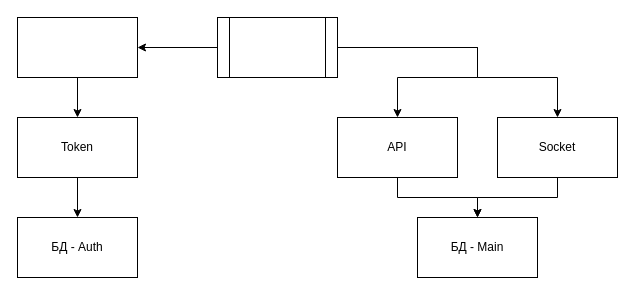
This 635x295 diagram has some shape labels left out. Here are the shapes that lost their labels. From the top down, the box of each, then its label:
(16, 16, 138, 78): Auth
(216, 16, 338, 78): Проверка доступа
